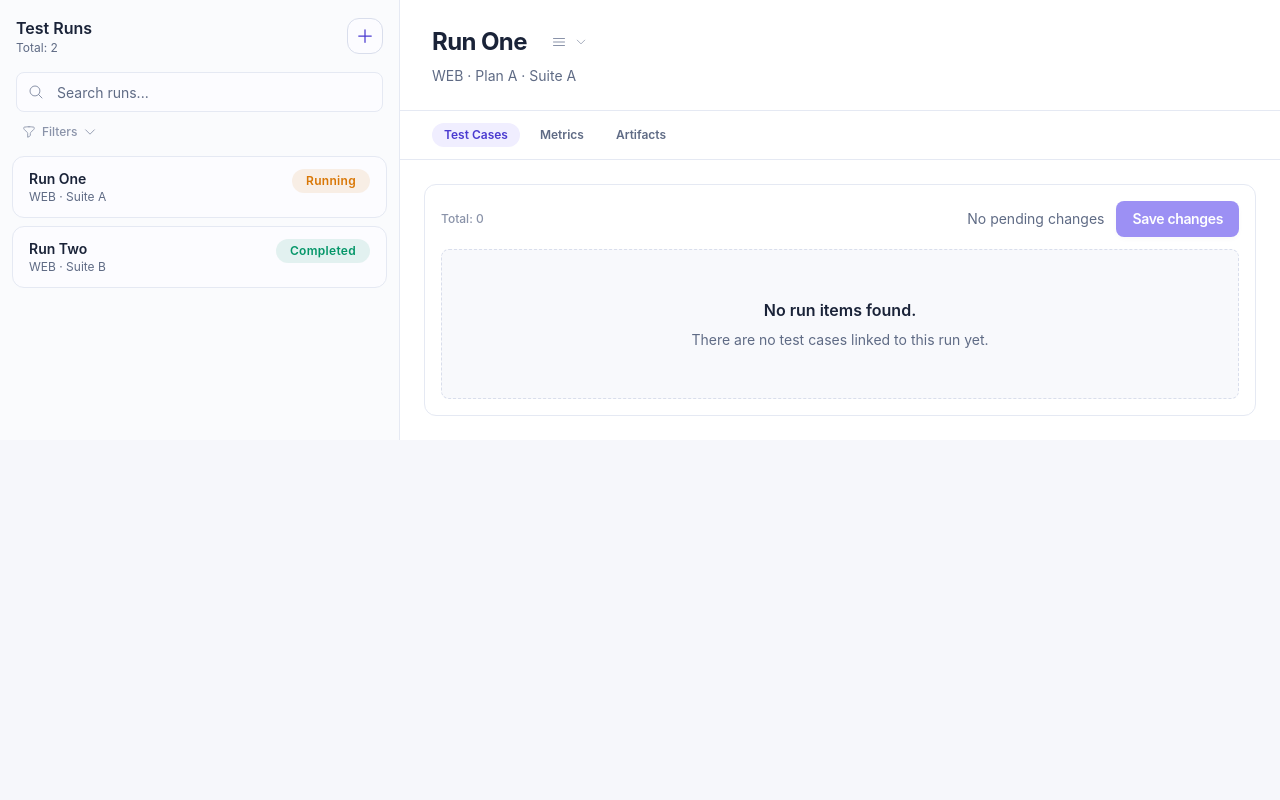
TestRunsWorkspace › loads and renders metrics tab and supports refresh
Expected: the button "Run One WEB · Suite A Running" is shown, top-left (12, 156), bottom-right (387, 218)
Click the button "Metrics": (562, 135) top-left (528, 123), bottom-right (596, 147)
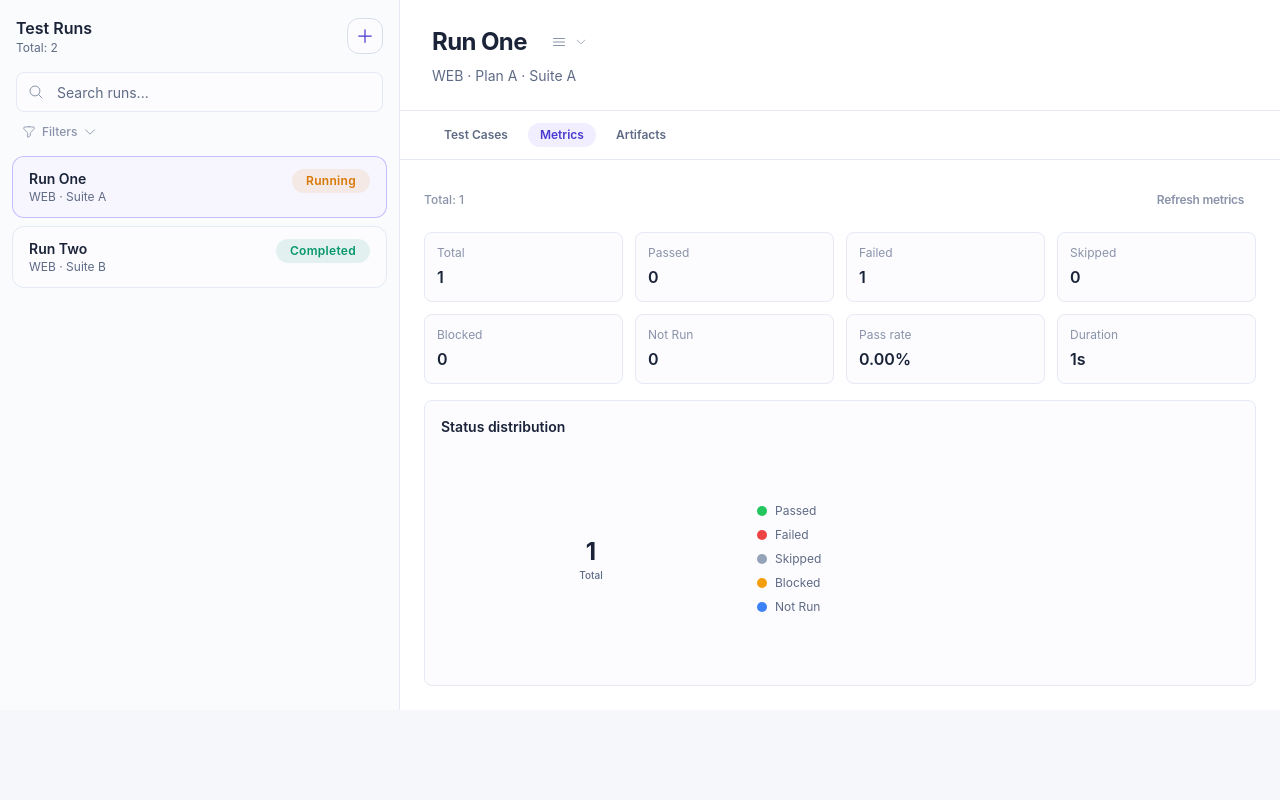
Expected: the text "Status distribution" is shown, top-left (441, 418), bottom-right (565, 435)
Expected: the text "Pass rate" is shown, top-left (859, 327), bottom-right (912, 342)
Expected: the text "0.00%" is shown, top-left (859, 349), bottom-right (911, 369)
Click the button "Refresh metrics": (1200, 200) top-left (1145, 184), bottom-right (1256, 216)
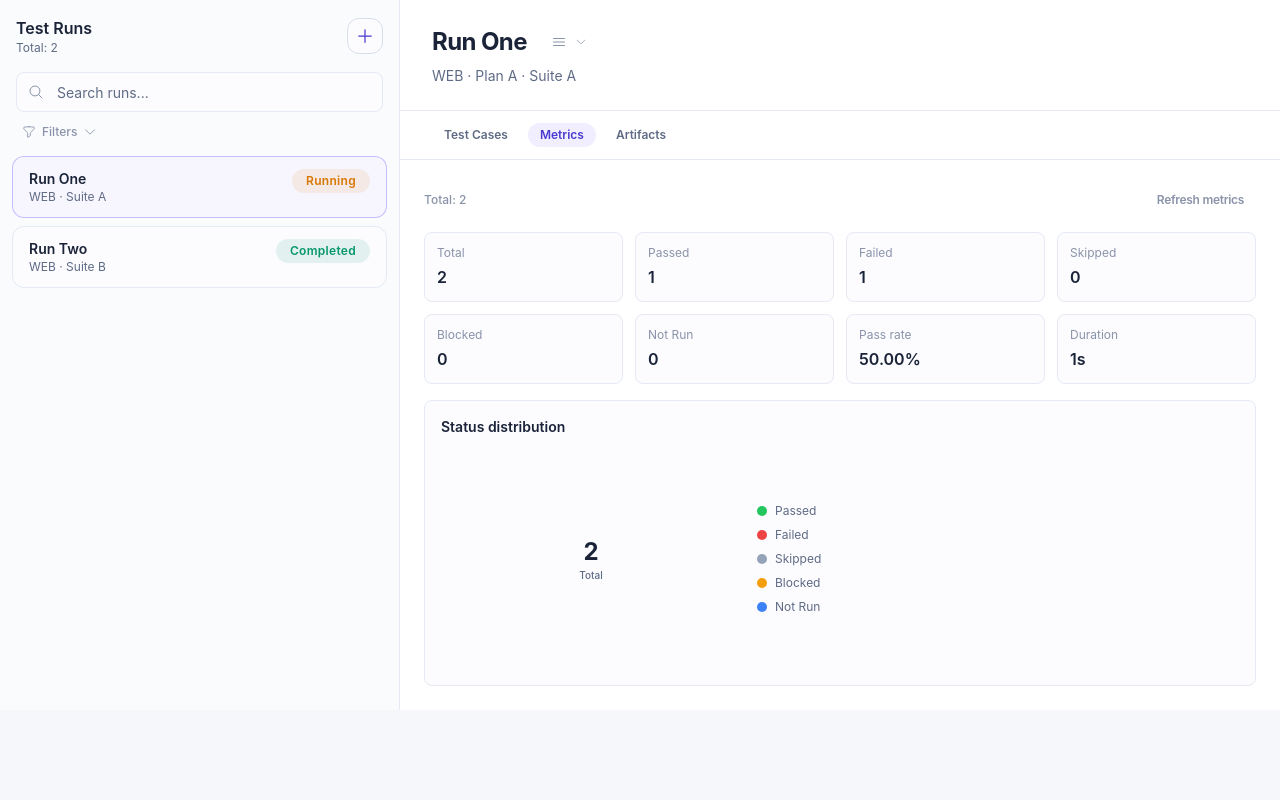
Expected: the text "50.00%" is shown, top-left (859, 349), bottom-right (921, 369)
